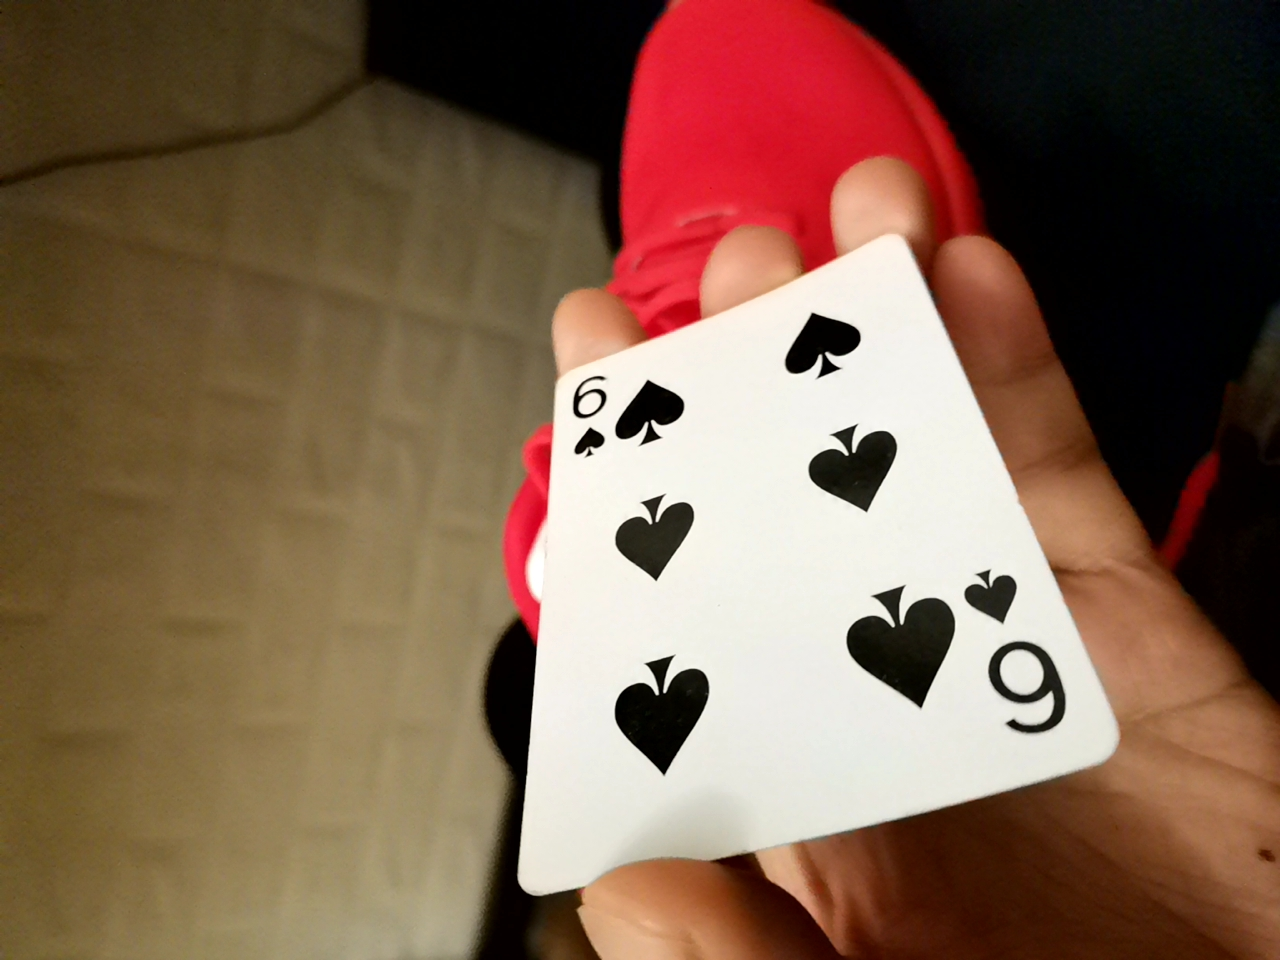ht 6: (506, 242, 1131, 879)
